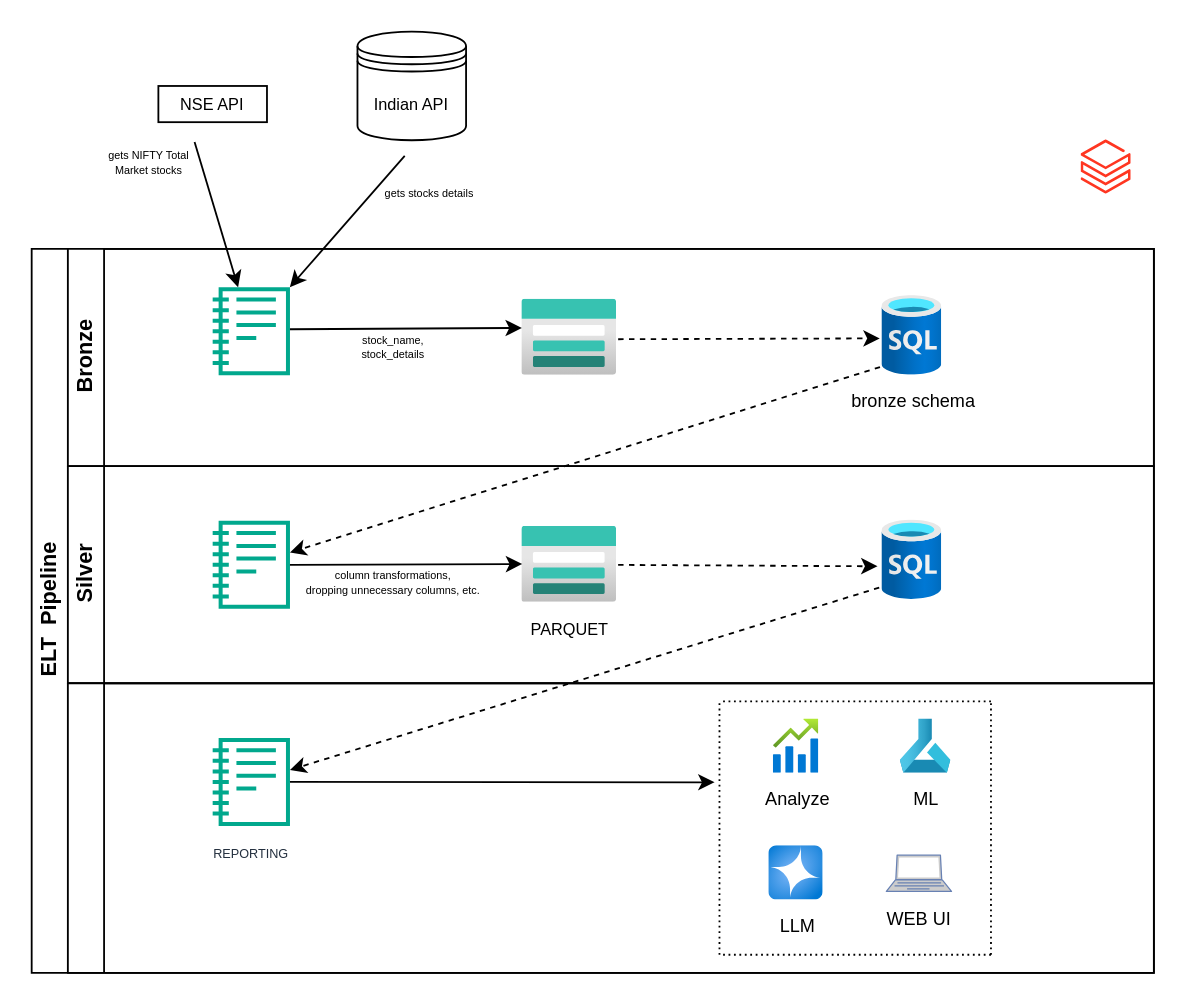
The diagram is 1186 pixels wide and 1005 high, and some of its shapes have lost their labels. Each missing label, with the box of its shape:
Azure Databricks: (1081, 139, 1131, 194)
GET NSE DATA: (212, 286, 289, 375)
Gold: (66, 681, 1154, 973)
JSON: (521, 299, 616, 375)
silver schema: (881, 519, 941, 599)
TRANSFORM NSE DATA: (212, 519, 289, 608)
